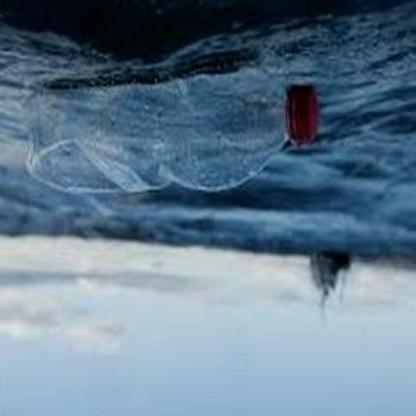plastic bottle: (21, 80, 324, 193)
